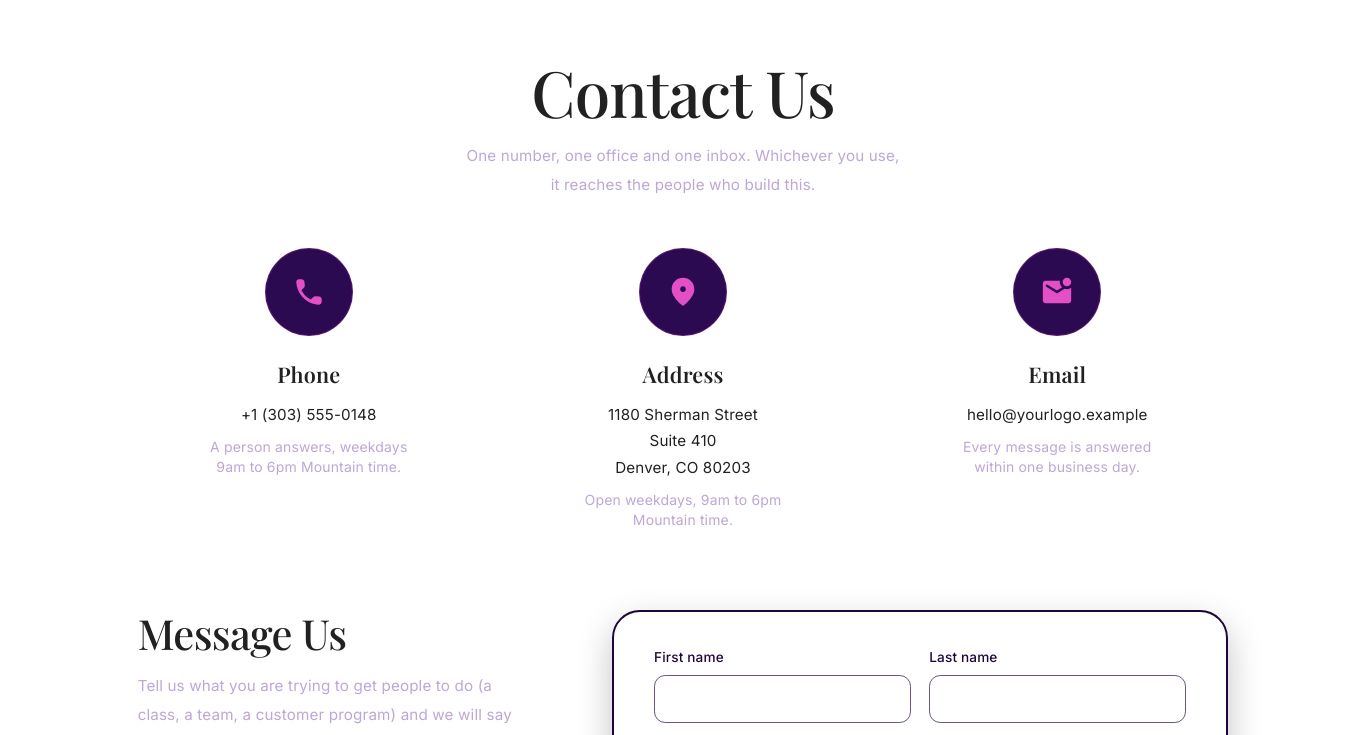
Test: what the page says back › throws the answer into the corner once the message has gone
Type "Marcus" into the field labelled "First name". click: point(783, 699)
box: x1=654 y1=675 x2=911 y2=723
(page scrolled)
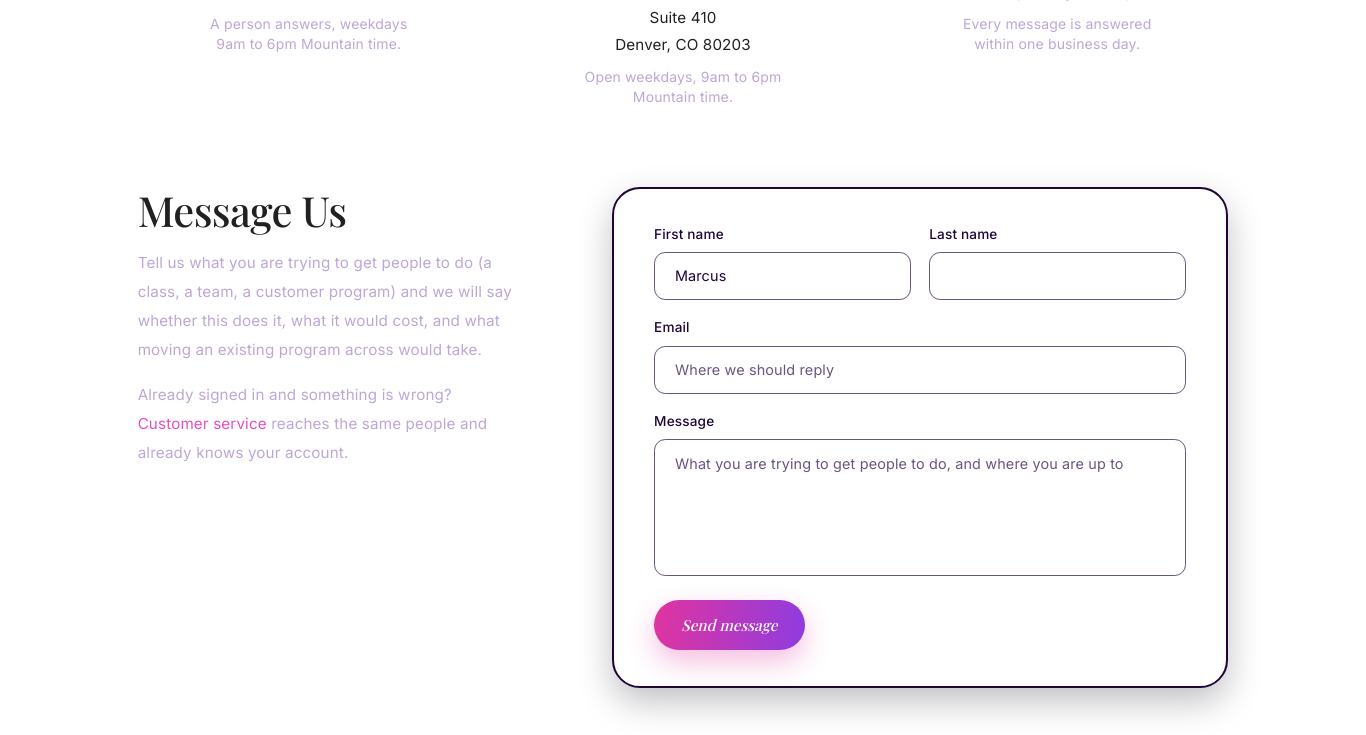
Type "marcus@member.example" into the field labelled "Email". click: point(920, 370)
box: x1=654 y1=346 x2=1186 y2=394
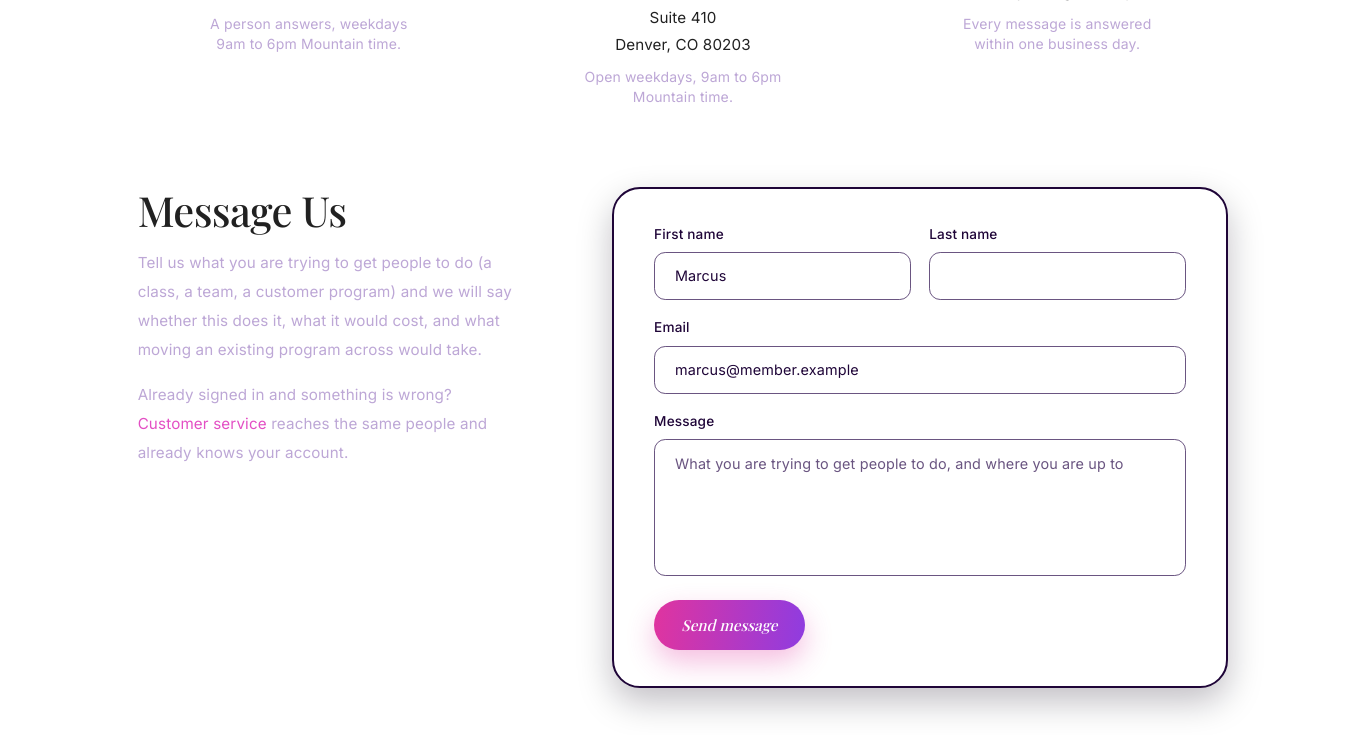
Replace the text in the text box labelled "Message" with "Does this fit a reading program?". click: point(920, 508)
box: x1=654 y1=439 x2=1186 y2=576
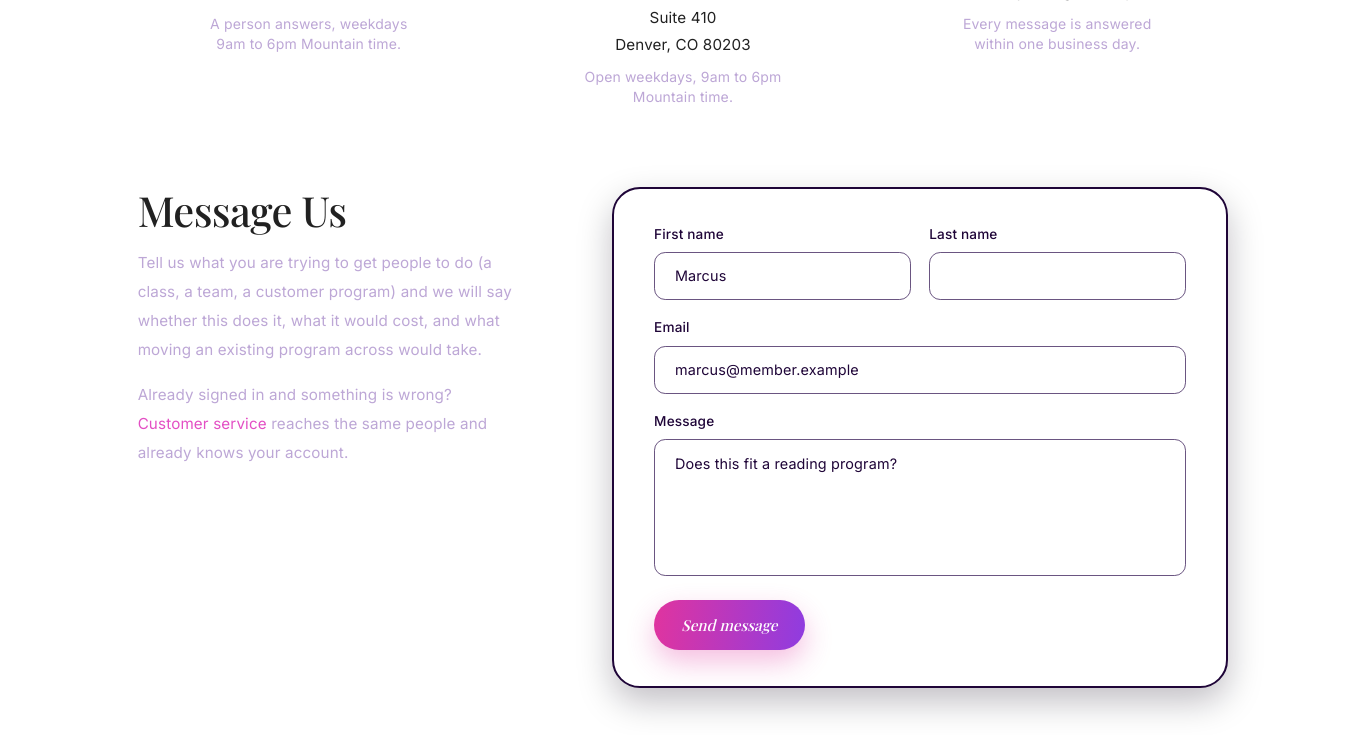
Click the button "Send message". click: point(729, 625)
box: x1=654 y1=600 x2=805 y2=650
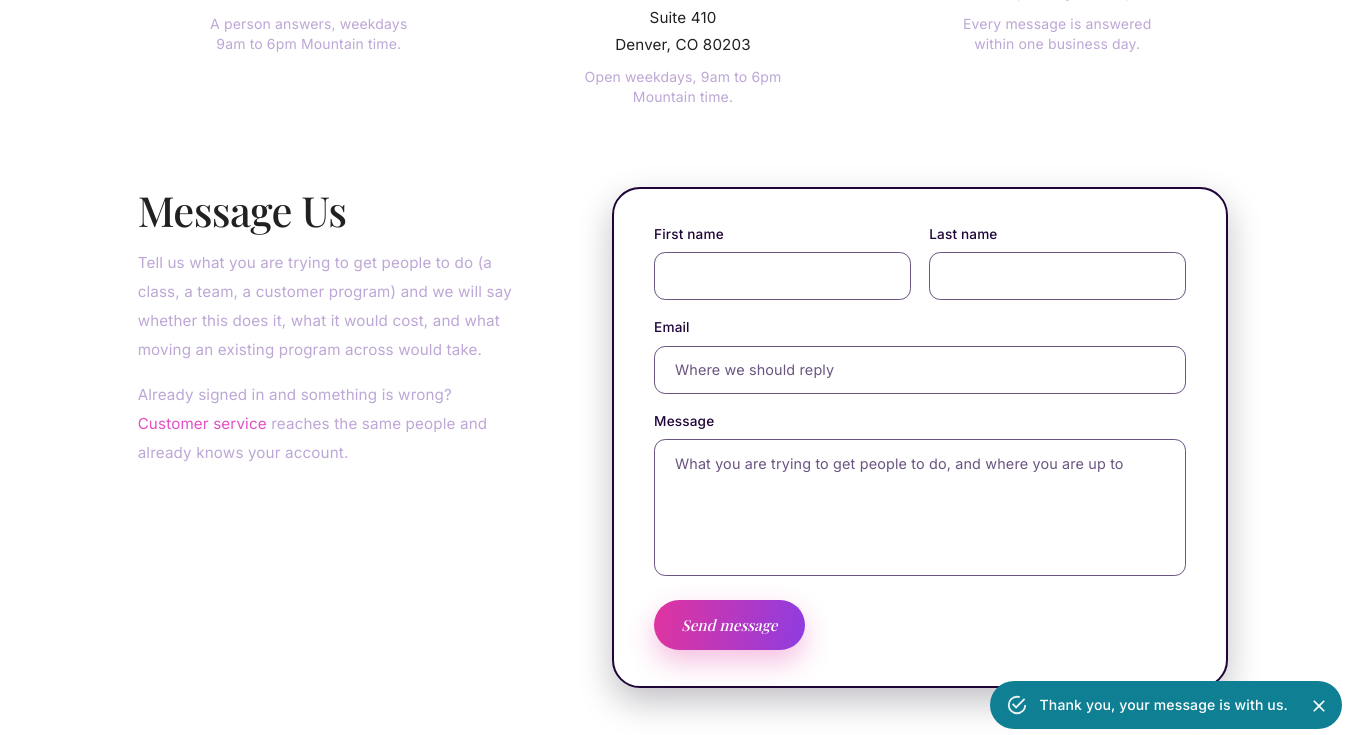
expect the text "Thank you, your message is with us." is shown: met, box x1=1040 y1=696 x2=1288 y2=713
